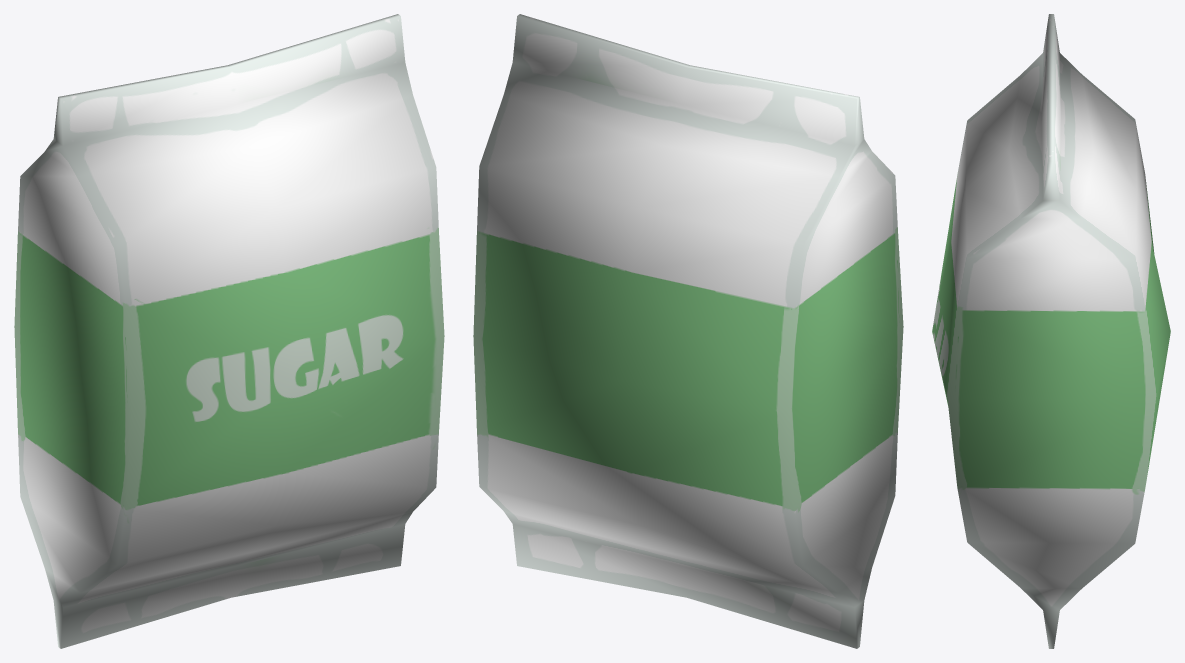
Rendered from SugarPack.fbx.
3 views of the same model, side by side, from view 1: azimuth 30°, elevation 25°; view 2: azimuth 150°, elevation 25°; view 3: azimuth 270°, elevation 25° (orthographic). The views are drawn at different scales.
Visible parts, largest first — view 1: sugar; view 2: sugar; view 3: sugar.
Boxes of the visible parts, x1=… form: sugar: x1=14, y1=14, x2=444, y2=648; sugar: x1=473, y1=14, x2=903, y2=648; sugar: x1=932, y1=14, x2=1170, y2=648.
Size of the model in its own units: 30.26 by 46.47 by 20.61.
